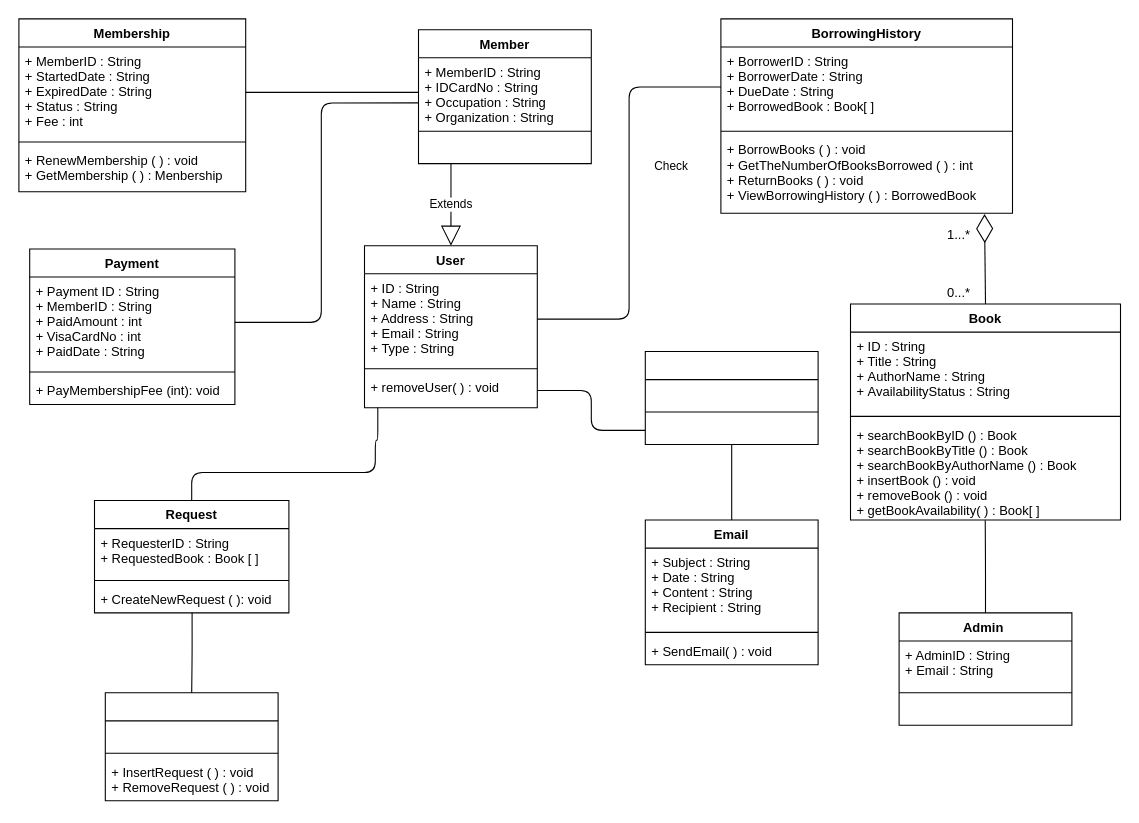
Some shapes in this 1139 by 823 pixel diagram are drawn without their labels. Here are the shapes that lost their labels. From the top down, the box of each, then its label:
(644, 350, 818, 444): System
(104, 692, 278, 801): WaitingList
